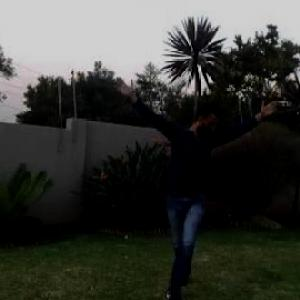takeoff: (59, 51, 299, 299)
